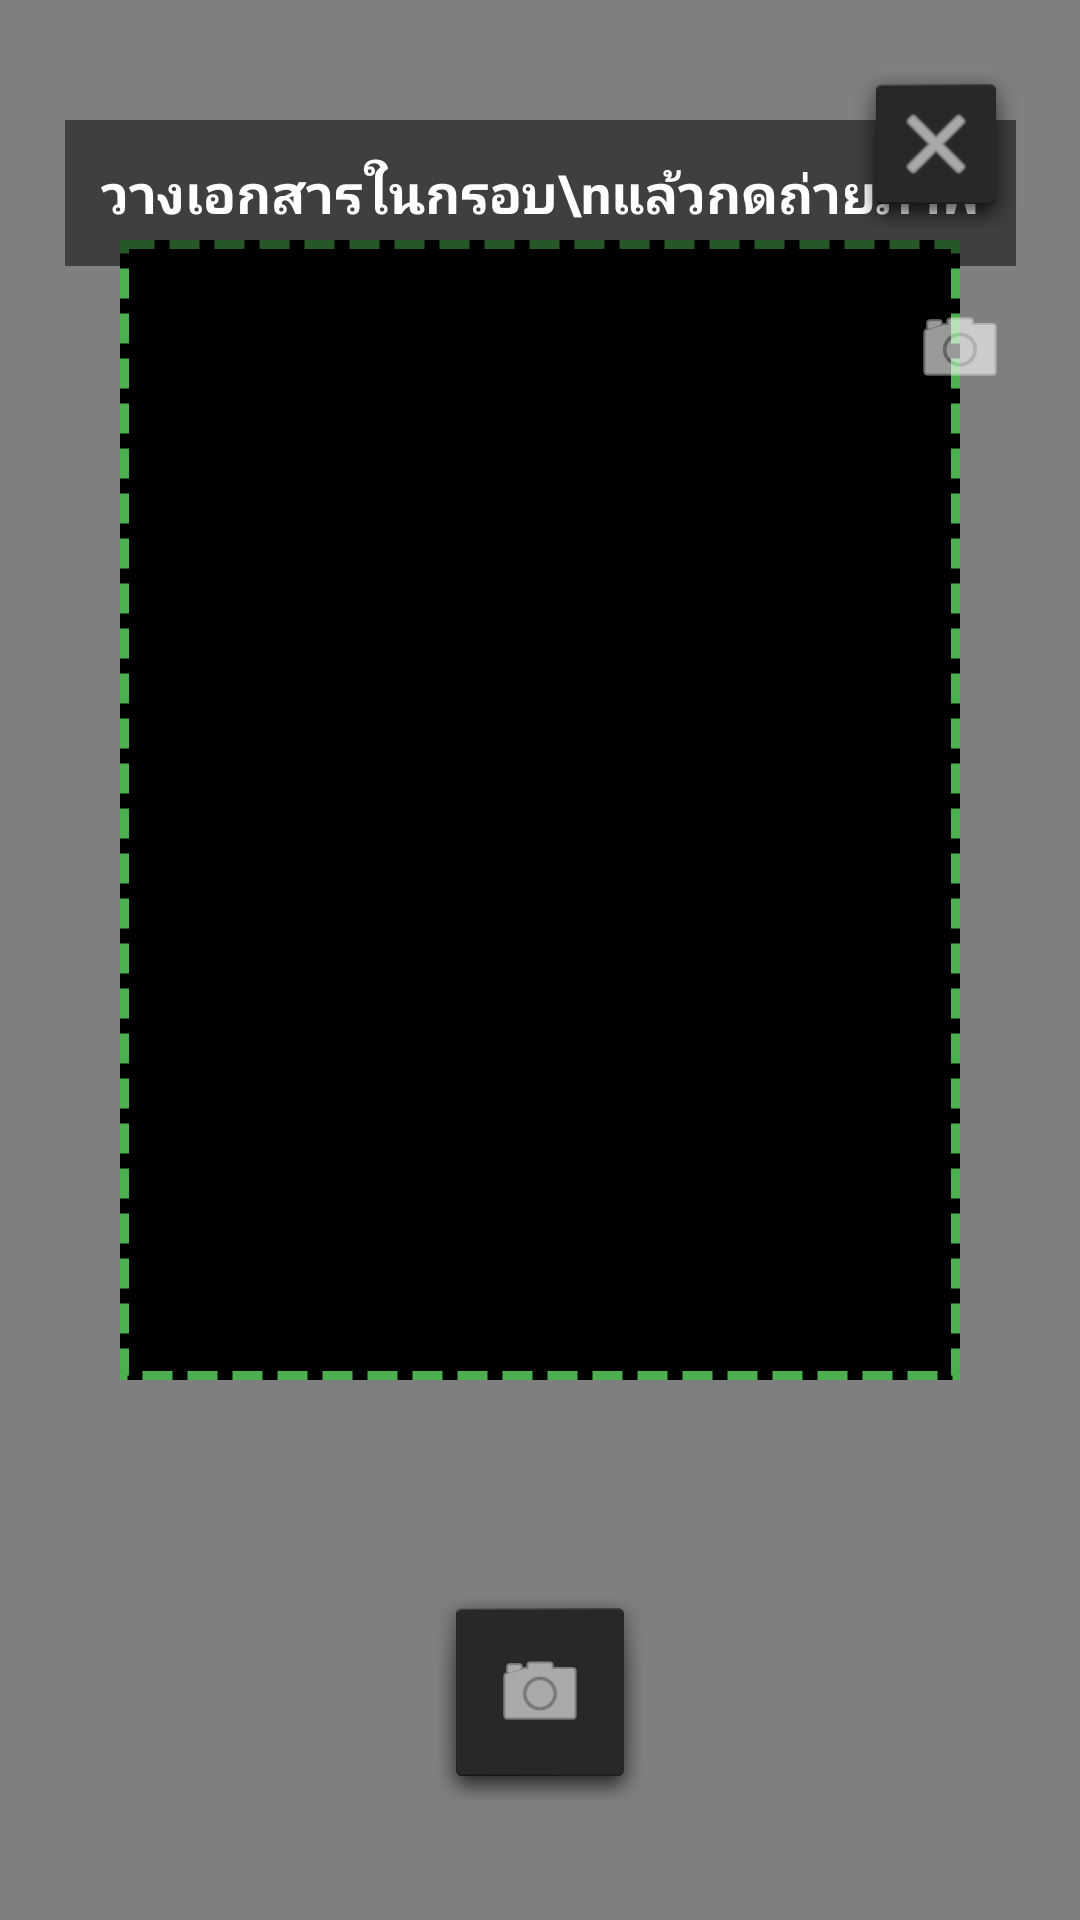

Icon click points for this 1080px x 1920px phone screenshot, format (x=x, y=y):
ถ่ายภาพ: (x=540, y=1699)
ปิดกล้อง: (x=934, y=156)
